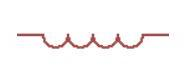inductor: (34, 24, 156, 57)
